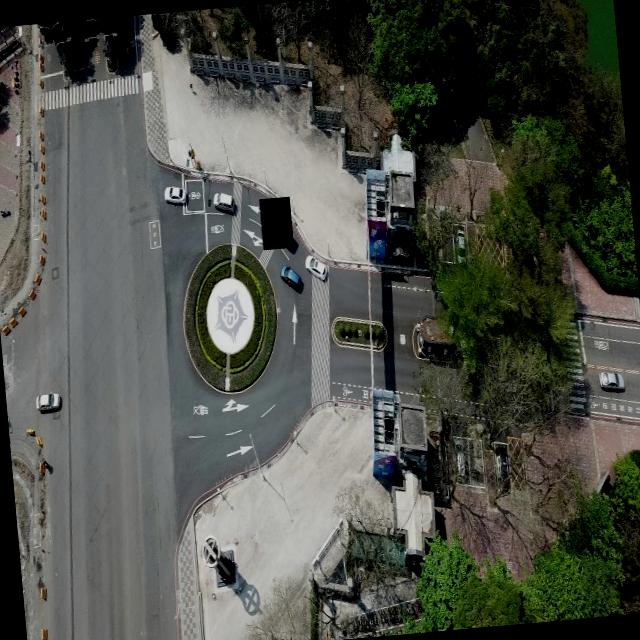car: (492, 439, 510, 496), (304, 252, 329, 283), (278, 262, 302, 294), (209, 190, 238, 216), (598, 367, 625, 393), (452, 223, 468, 265), (34, 390, 62, 412), (162, 182, 187, 204)
